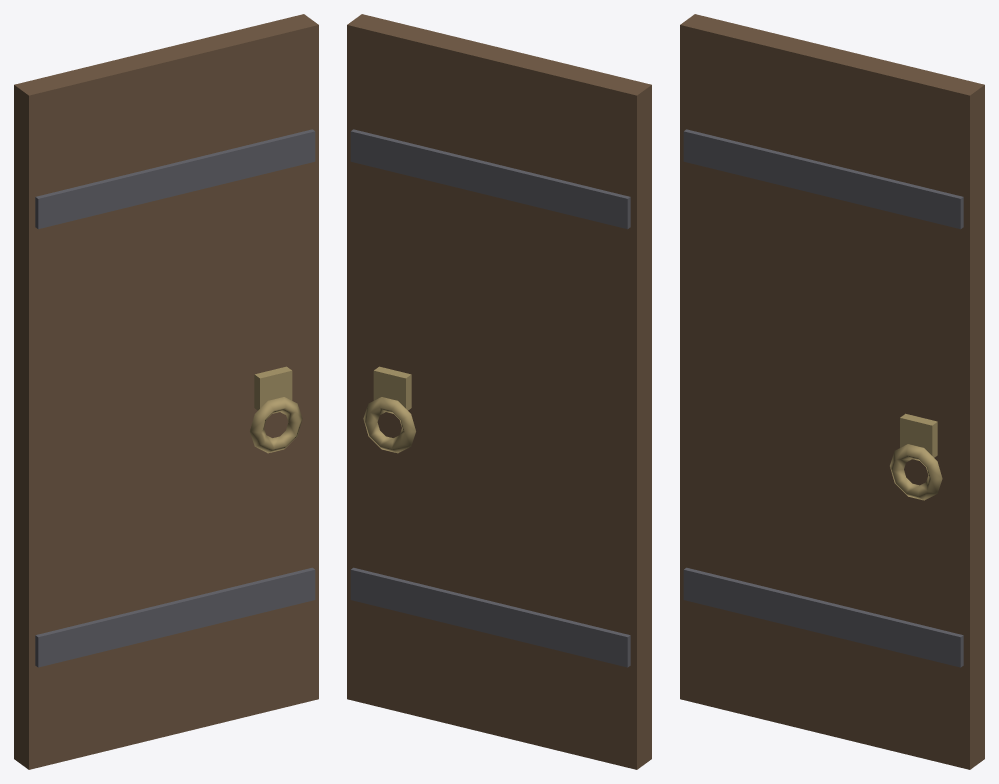
File: ServiceDoorLeaf.fbx
3 renders of one model, left to right at view 1: azimuth 30°, elevation 25°; view 2: azimuth 150°, elevation 25°; view 3: azimuth 330°, elevation 25°, orthographic.
Visible parts, largest first — view 1: ServiceDoorLeaf; view 2: ServiceDoorLeaf; view 3: ServiceDoorLeaf.
Boxes of the visible parts, <box> form: ServiceDoorLeaf: <box>14,14,318,769</box>; ServiceDoorLeaf: <box>347,14,651,769</box>; ServiceDoorLeaf: <box>680,14,984,769</box>.
Size of the model in its own units: 0.9 by 2 by 0.184.
